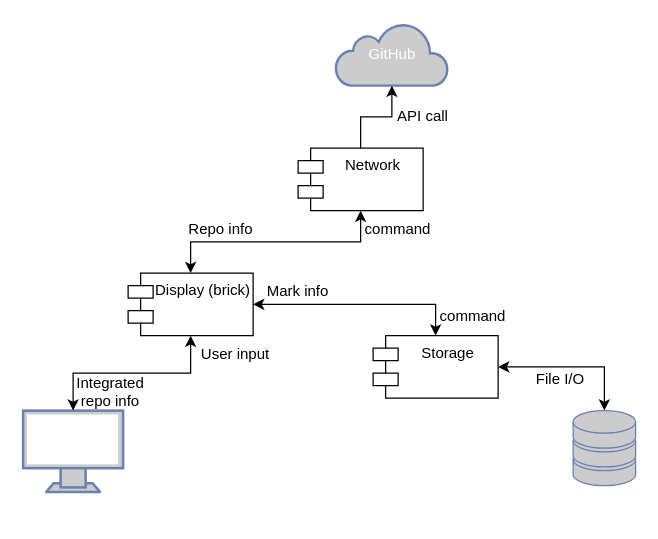
Some shapes in this 658 by 539 pixel diagram are drawn without their labels. The centre of each missing label's shape, as x and y in pixels:
Disk: point (603, 447)
End user: point (72, 450)
